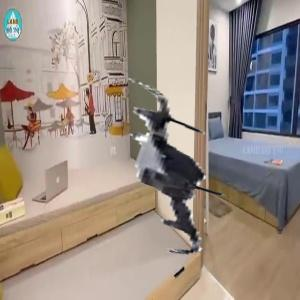drone: (93, 91, 258, 256)
